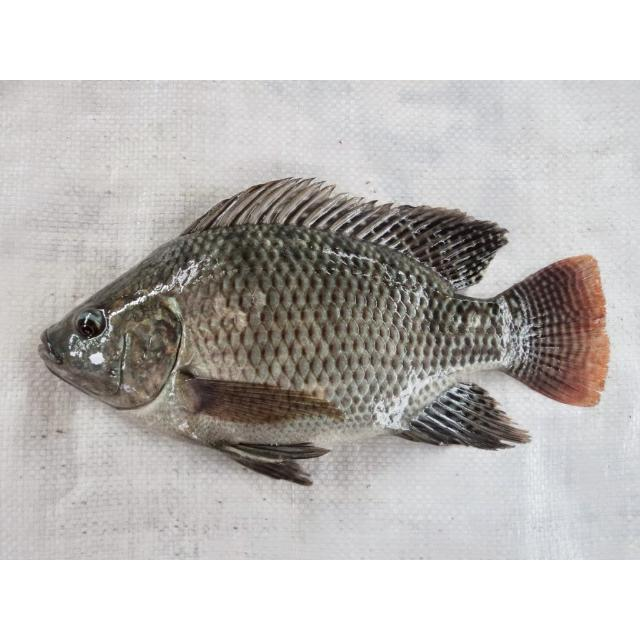Mulut: (18, 309, 92, 415)
Sirip Anal: (381, 369, 545, 469)
Sirip Dada: (171, 349, 361, 433)
Sirip Ekor: (492, 239, 620, 423)
Sirip Perut: (202, 418, 344, 499)
Sirip Punggung: (172, 160, 522, 300)
